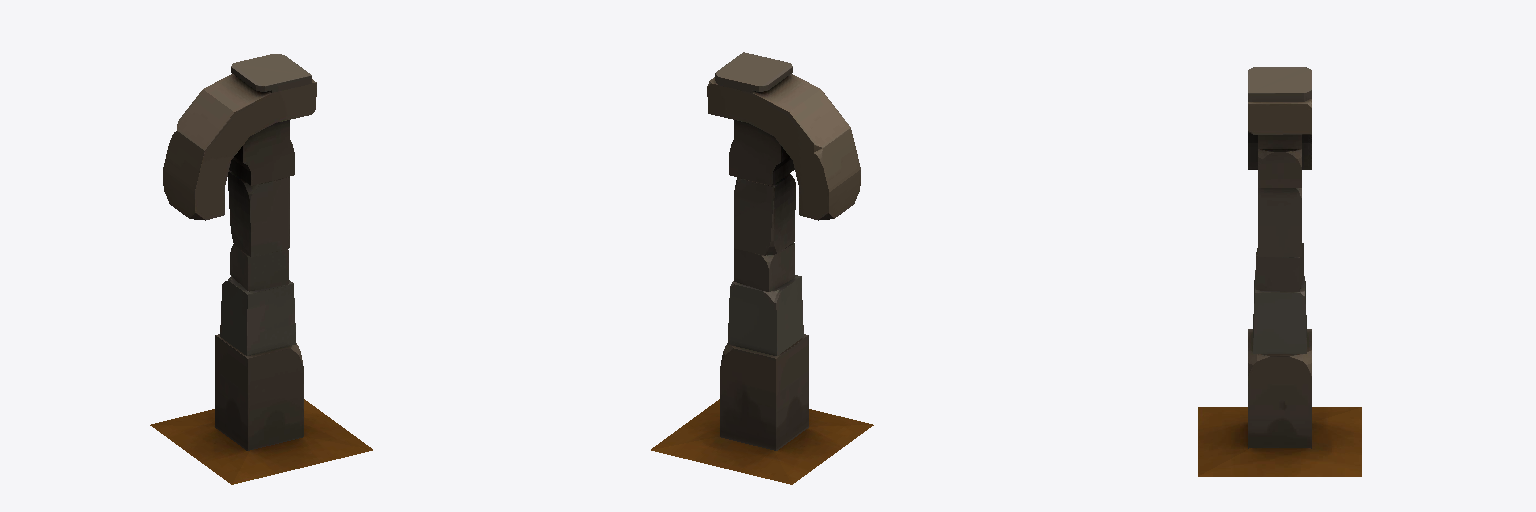
3 views of the same model, side by side, from view 1: azimuth 30°, elevation 25°; view 2: azimuth 150°, elevation 25°; view 3: azimuth 270°, elevation 25° (orthographic).
Visible parts, largest first — view 1: OBJ_StoneDoor_02; view 2: OBJ_StoneDoor_02; view 3: OBJ_StoneDoor_02.
Part boxes in pixels (x1,y1,x2,y2): OBJ_StoneDoor_02: (150,54,372,484); OBJ_StoneDoor_02: (651,52,873,484); OBJ_StoneDoor_02: (1198,67,1361,476).
Bounding box in the file's own units: 2.6 × 5.89 × 2.4.
1 materials, 1 textured.